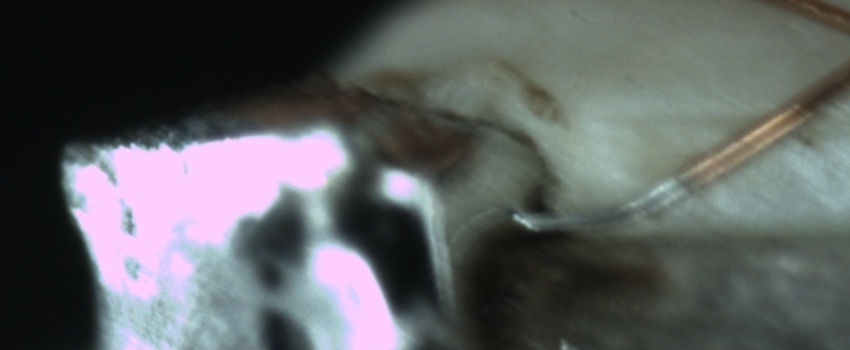DL: (619, 83, 850, 160)
TS: (520, 173, 695, 235)
